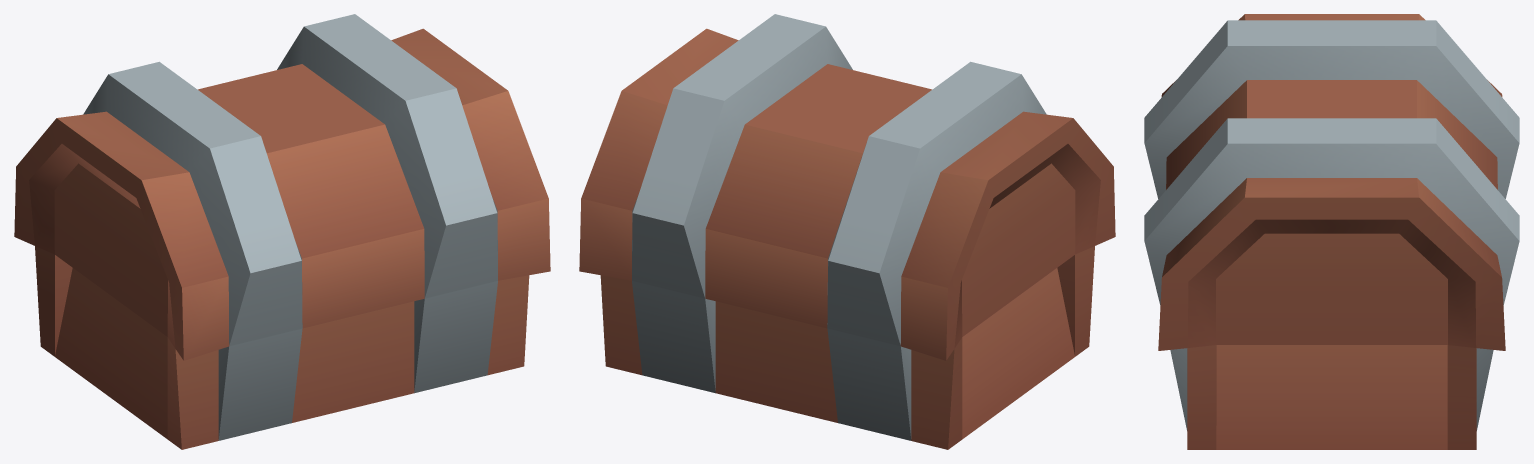
Rendered from trunk_small_C.gltf.
3 views of the same model, side by side, from view 1: azimuth 30°, elevation 25°; view 2: azimuth 150°, elevation 25°; view 3: azimuth 270°, elevation 25° (orthographic). The views are drawn at different scales.
Parts seen in each view (by area): view 1: trunk_small_C; view 2: trunk_small_C; view 3: trunk_small_C.
Part boxes in pixels (<box>): trunk_small_C: <box>14,14,550,449</box>; trunk_small_C: <box>579,14,1115,449</box>; trunk_small_C: <box>1144,14,1519,449</box>.
Size of the model in its own units: 0.6754 by 0.4843 by 0.5834.
Materials: 1 (1 with a texture image).
